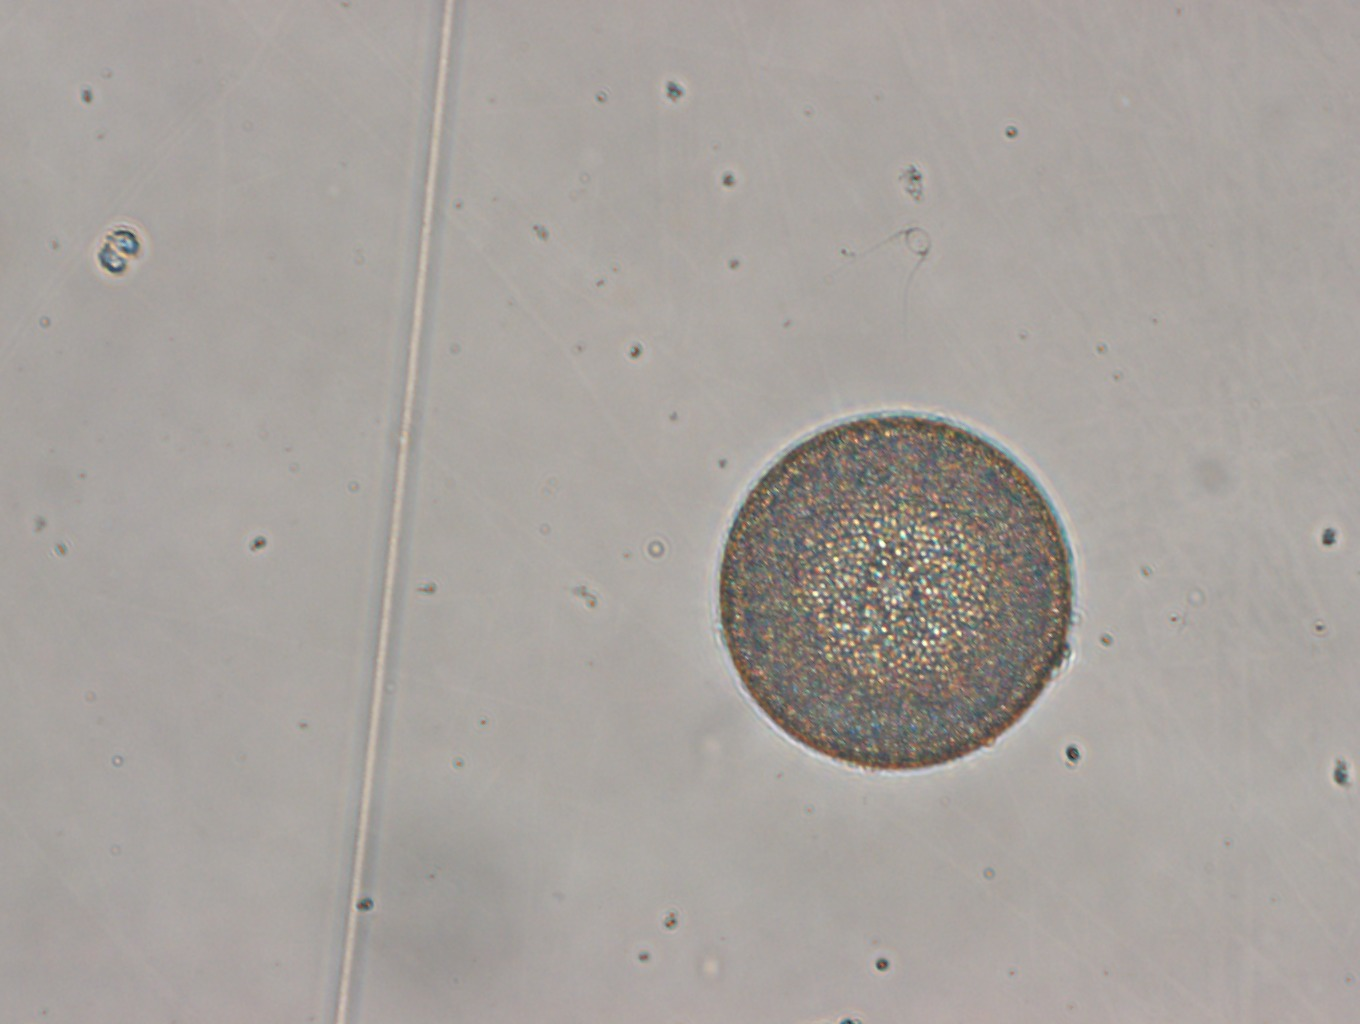coscinodiscus: (714, 406, 1080, 776)
